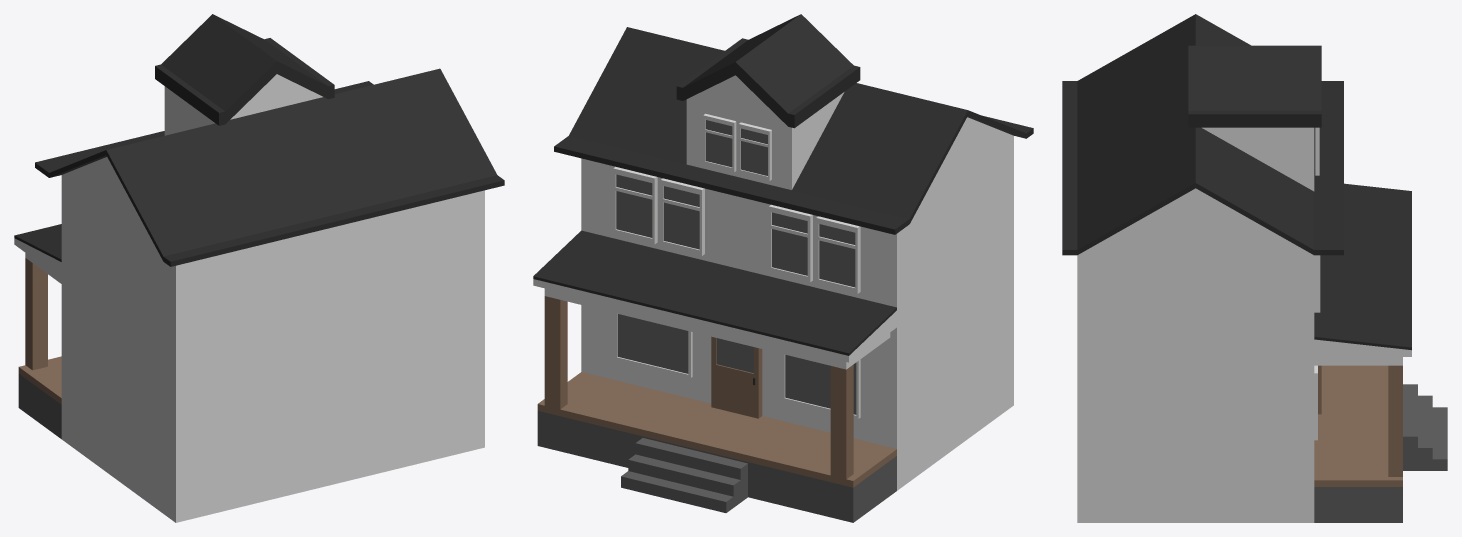
The model's file is housev4.fbx.
3 renders of one model, left to right at view 1: azimuth 30°, elevation 25°; view 2: azimuth 150°, elevation 25°; view 3: azimuth 270°, elevation 25°, orthographic. The views are drawn at different scales.
Parts seen in each view (by area): view 1: WideHouse.001; view 2: WideHouse.001; view 3: WideHouse.001.
Boxes of the visible parts, x1=… form: WideHouse.001: x1=14, y1=14, x2=504, y2=522; WideHouse.001: x1=533, y1=14, x2=1033, y2=522; WideHouse.001: x1=1062, y1=14, x2=1447, y2=522.
Bounding box in the file's own units: 1349 × 1486 × 1300.
